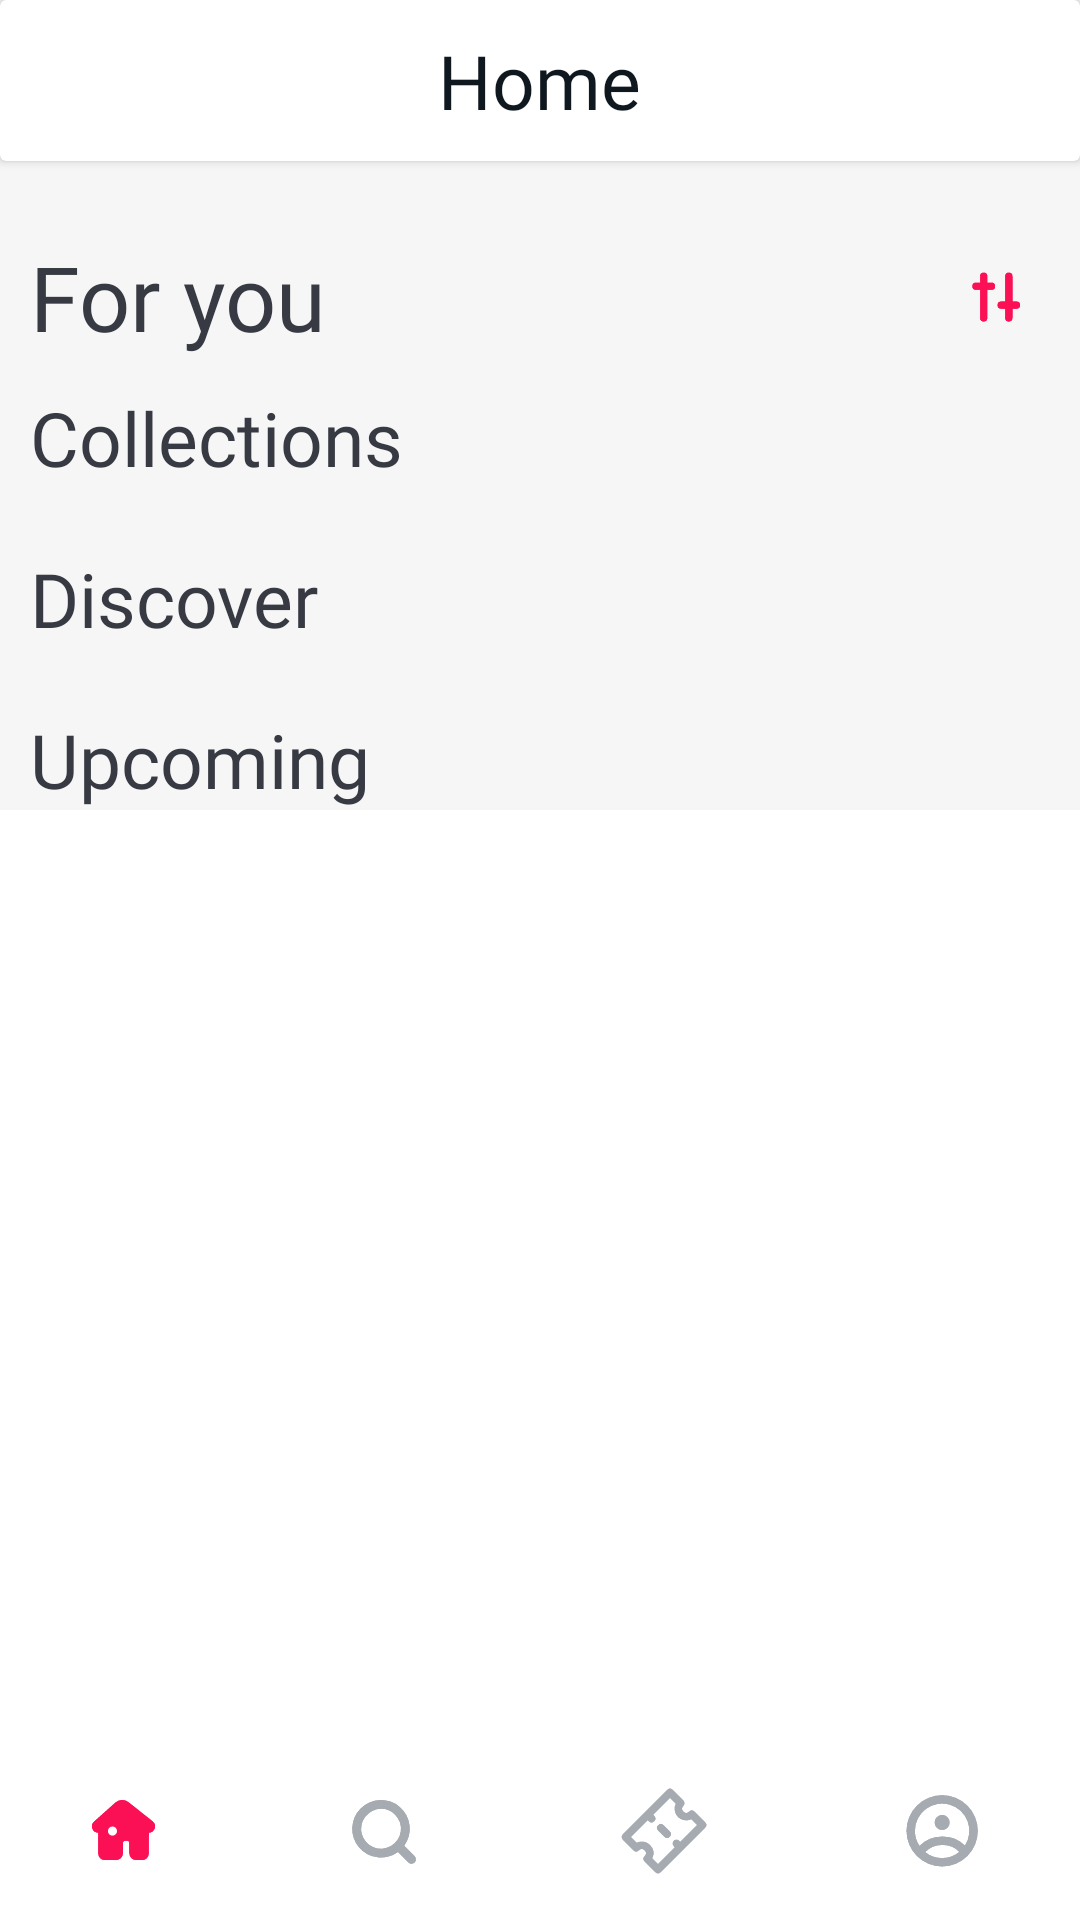

Locate icon controls on the screen. Image size 1080*1920, boxes as box=[x1, y1, x2, y2].
bottom bar search: box=[352, 1800, 416, 1864]
bottom bar tickets: box=[621, 1788, 707, 1874]
bottom bar user: box=[906, 1795, 978, 1867]
buttons filters: box=[972, 272, 1020, 322]
home: box=[92, 1800, 155, 1860]
